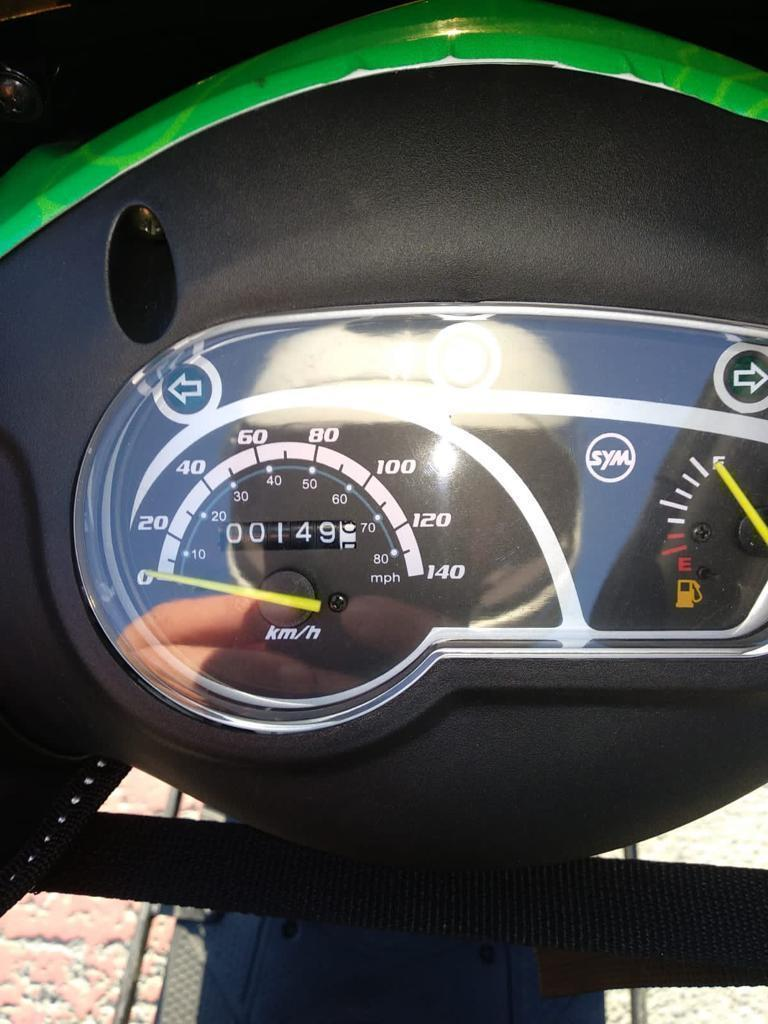0: (224, 521, 243, 545), (247, 521, 266, 544)
1: (275, 520, 285, 546)
4: (294, 520, 312, 543)
6: (340, 518, 358, 536)
9: (317, 519, 337, 545)
odometer: (214, 518, 358, 553)
